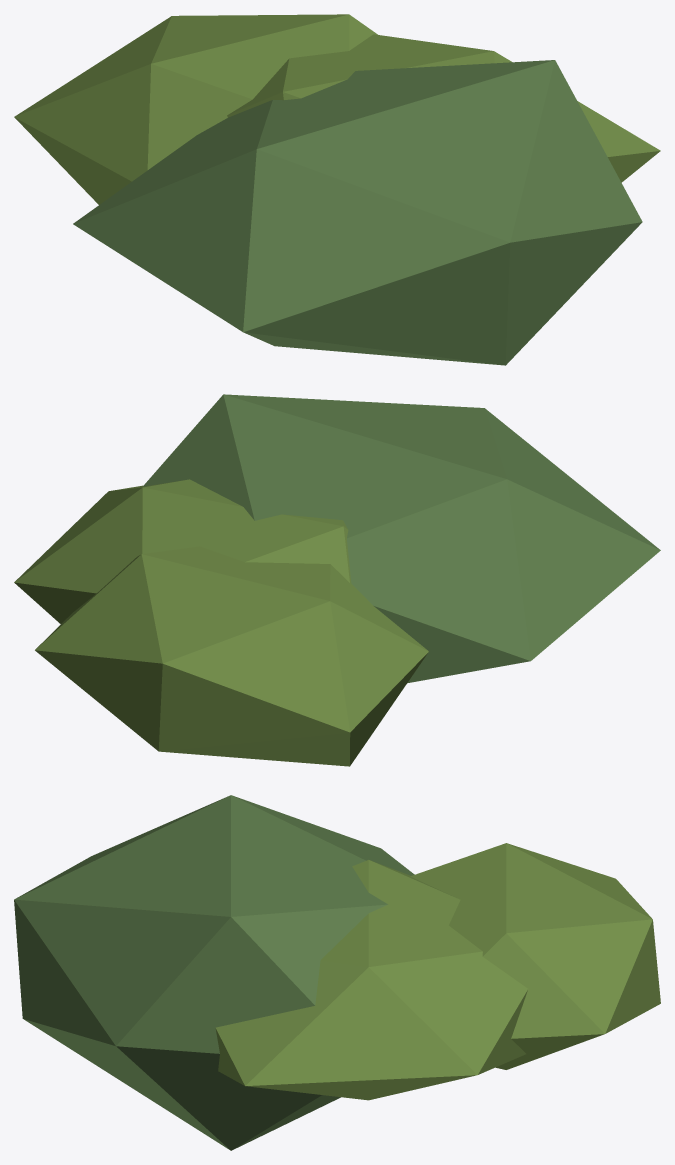
The model's file is moss-clump-1.glb.
3 renders of one model, top to bottom at view 1: azimuth 30°, elevation 25°; view 2: azimuth 150°, elevation 25°; view 3: azimuth 270°, elevation 25°, orthographic. The views are drawn at different scales.
Parts seen in each view (by area): view 1: moss_clump_1; view 2: moss_clump_1; view 3: moss_clump_1.
Part boxes in pixels (x1,y1,x2,y2): moss_clump_1: (14, 14, 660, 365); moss_clump_1: (14, 394, 660, 766); moss_clump_1: (14, 795, 660, 1150).
Bounding box in the file's own units: 0.4247 × 0.1949 × 0.4884.
